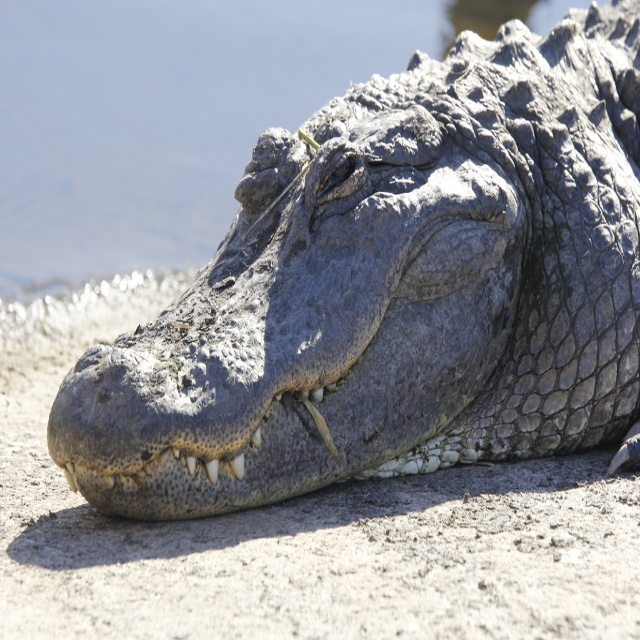Crocodile: (47, 0, 640, 519)
